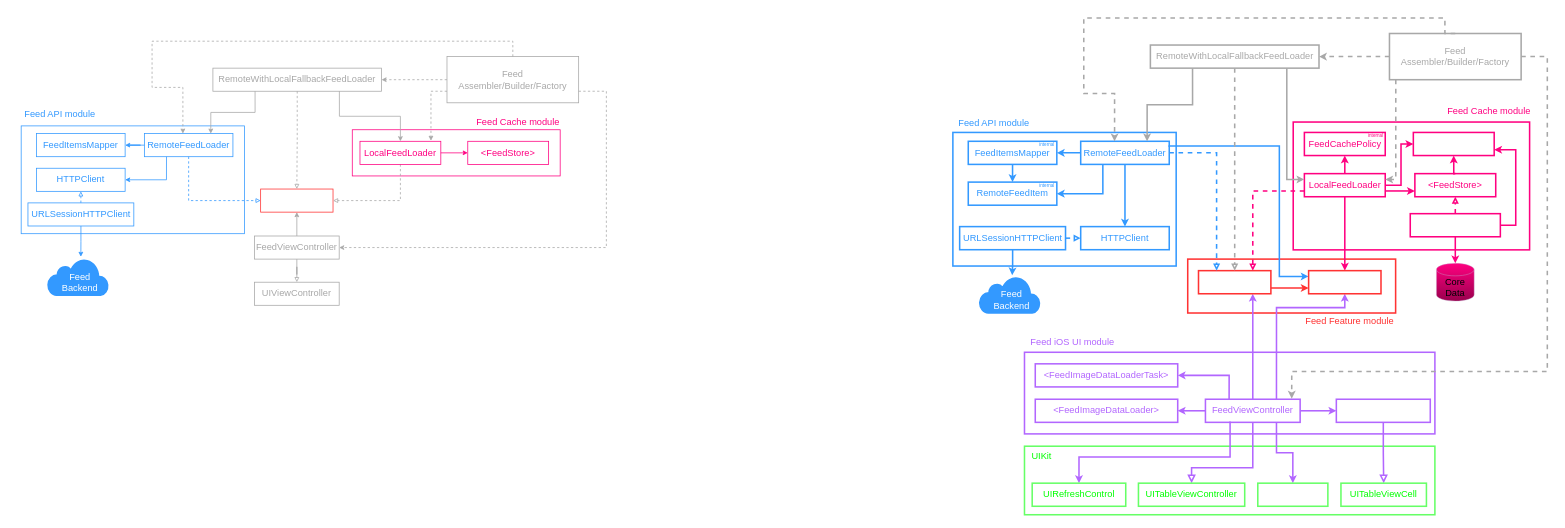
This 1565x528 diagram has some shape labels left out. Here are the shapes that lost their labels. From the top down, the centre of each, then its label:
the point at 1453,143: LocalFeedImage
the point at 296,200: <Feed Feature>
the point at 1455,225: CoreDataFeedStore
the point at 1234,282: <FeedLoader>
the point at 1344,282: FeedImage
the point at 1383,410: FeedImageCell
the point at 1292,494: UITableView
